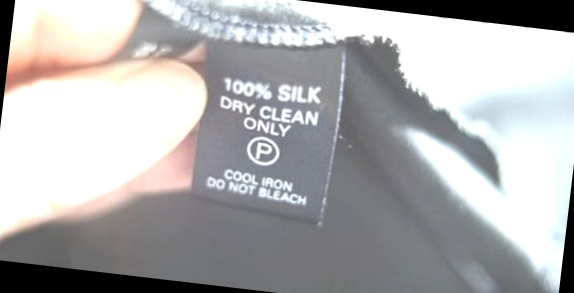dry_clean_any_solvent_except_trichloroethylene: (246, 134, 283, 167)
